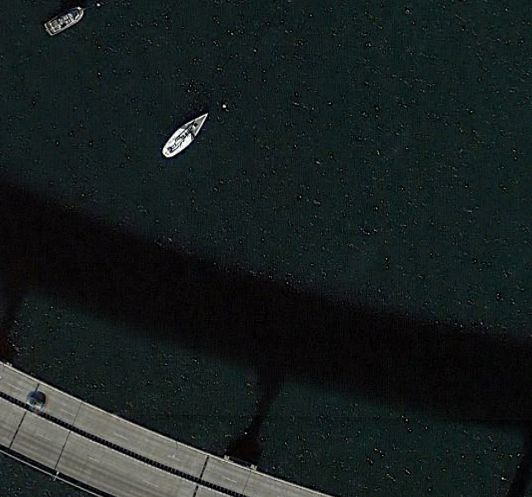boat: (160, 107, 215, 160), (43, 6, 92, 38)
